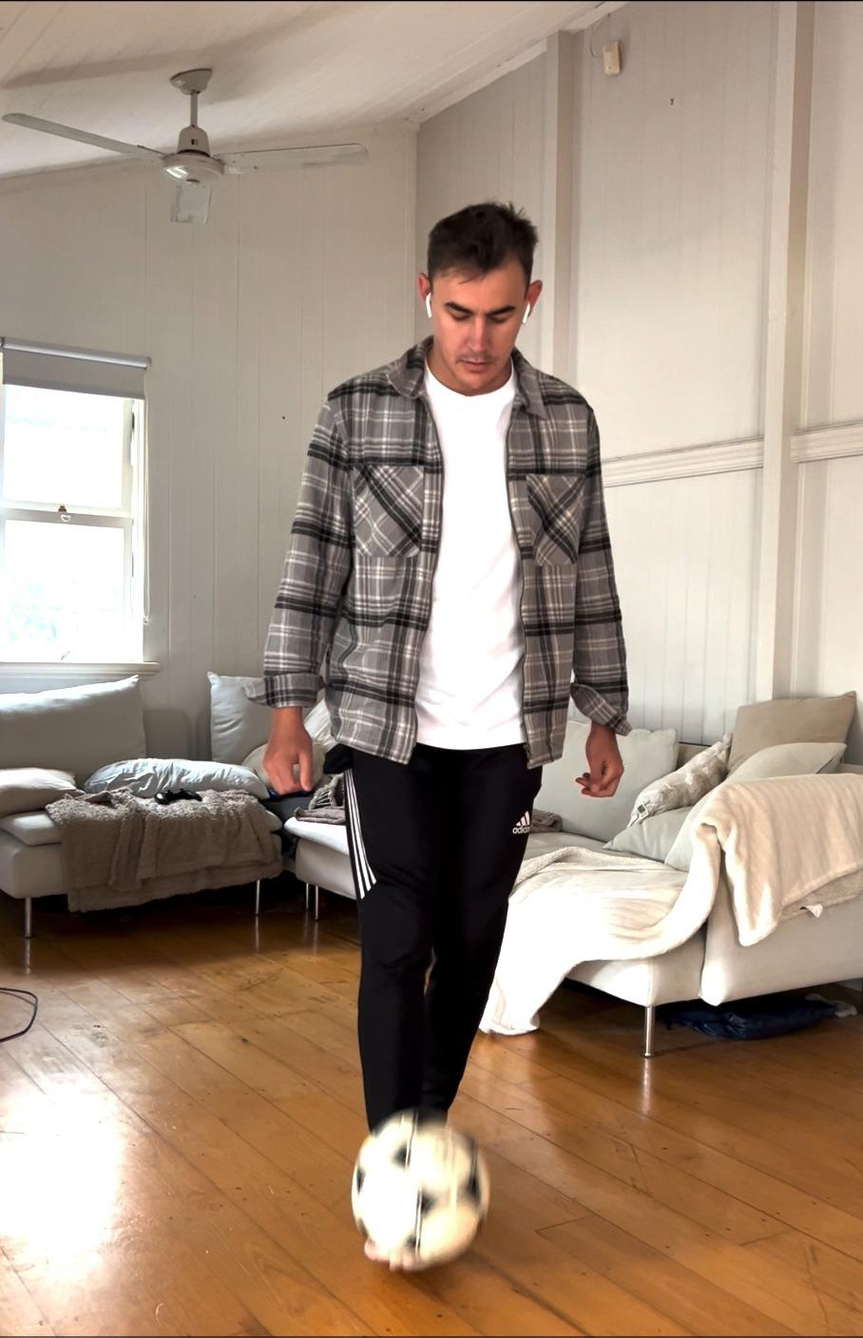ball: (343, 1117, 498, 1268)
person: (265, 202, 635, 1263)
